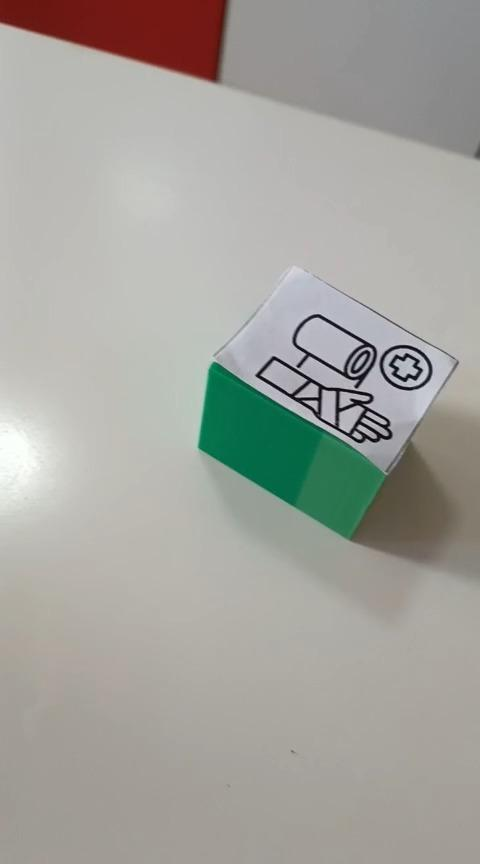Bandages: (196, 263, 459, 540)
